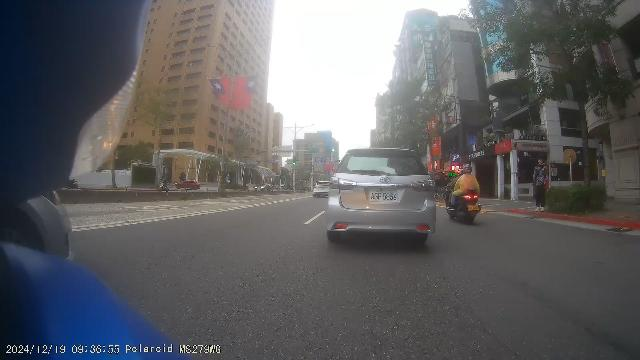plate: (370, 190, 398, 202)
